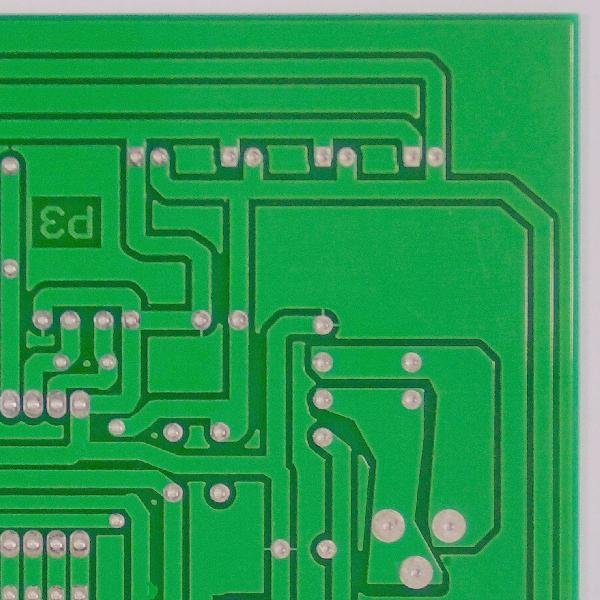spur: (139, 575, 160, 599)
